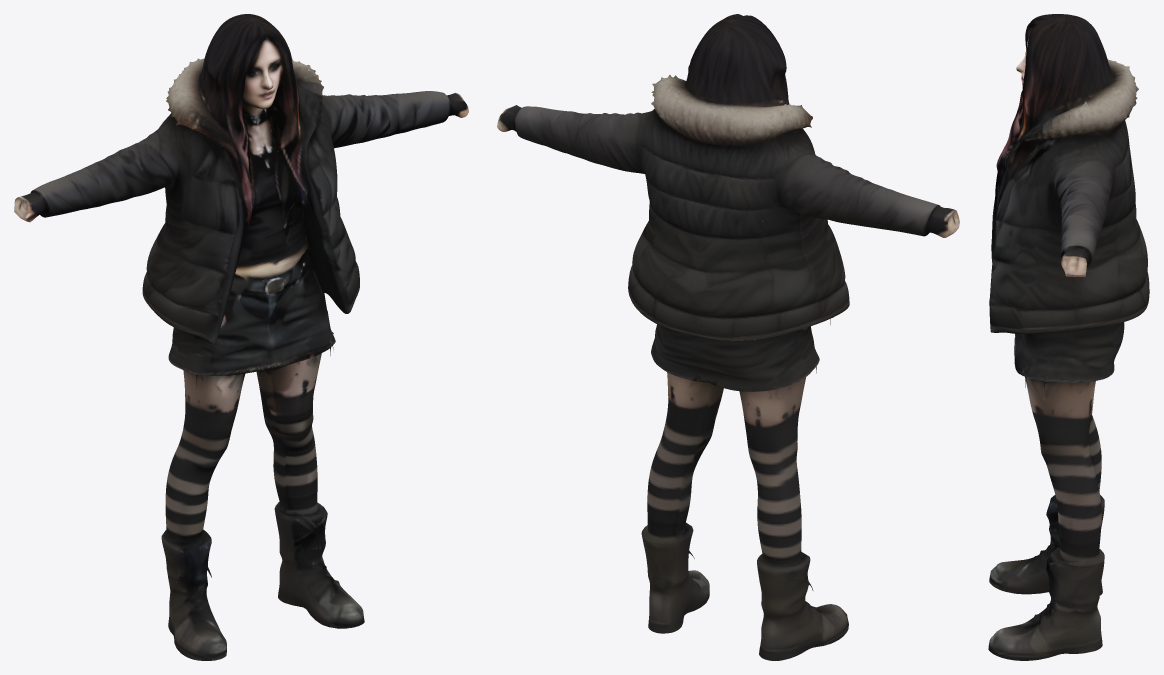
Rendered from base_basic_shaded.fbx.
3 views of the same model, side by side, from view 1: azimuth 30°, elevation 25°; view 2: azimuth 150°, elevation 25°; view 3: azimuth 270°, elevation 25° (orthographic).
Visible parts, largest first — view 1: model; view 2: model; view 3: model.
Part boxes in pixels (x1,y1,x2,y2): model: (14, 14, 468, 660); model: (497, 14, 959, 660); model: (988, 14, 1149, 660).
Bounding box in the file's own units: 148 × 190 × 46.07.
